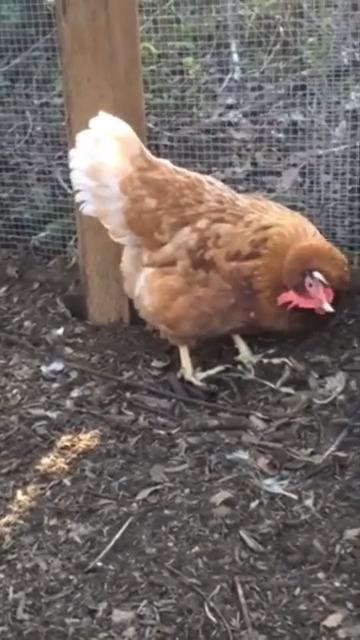AbNormal: (72, 122, 353, 383)
